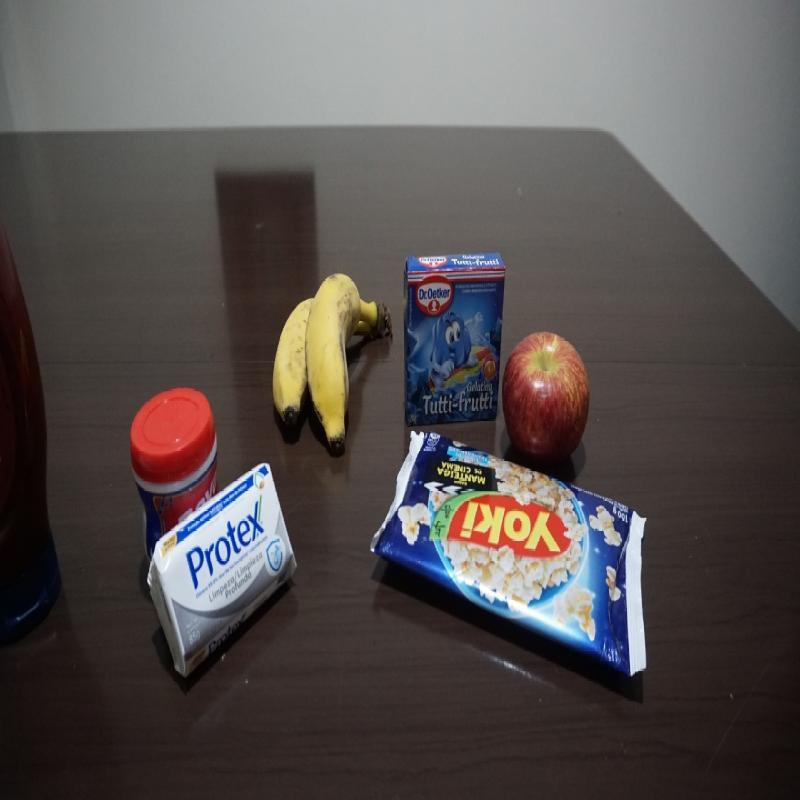Apple: (500, 331, 592, 466)
Banana: (270, 269, 395, 457)
Gelatine: (401, 251, 506, 427)
Popcorn: (370, 428, 649, 687)
Soap: (147, 461, 298, 680)
Yeast: (128, 385, 228, 562)
